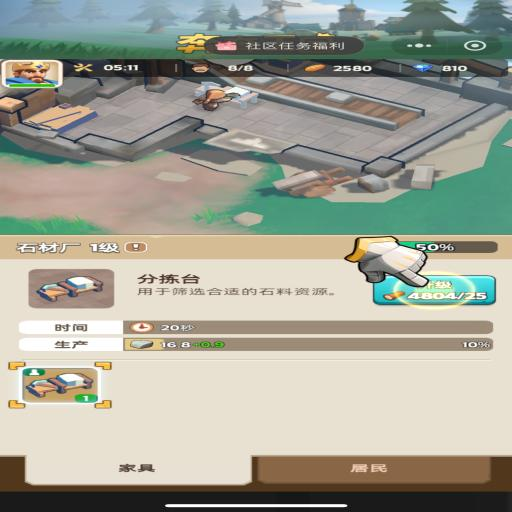newcomer_hand: (345, 236, 428, 287)
